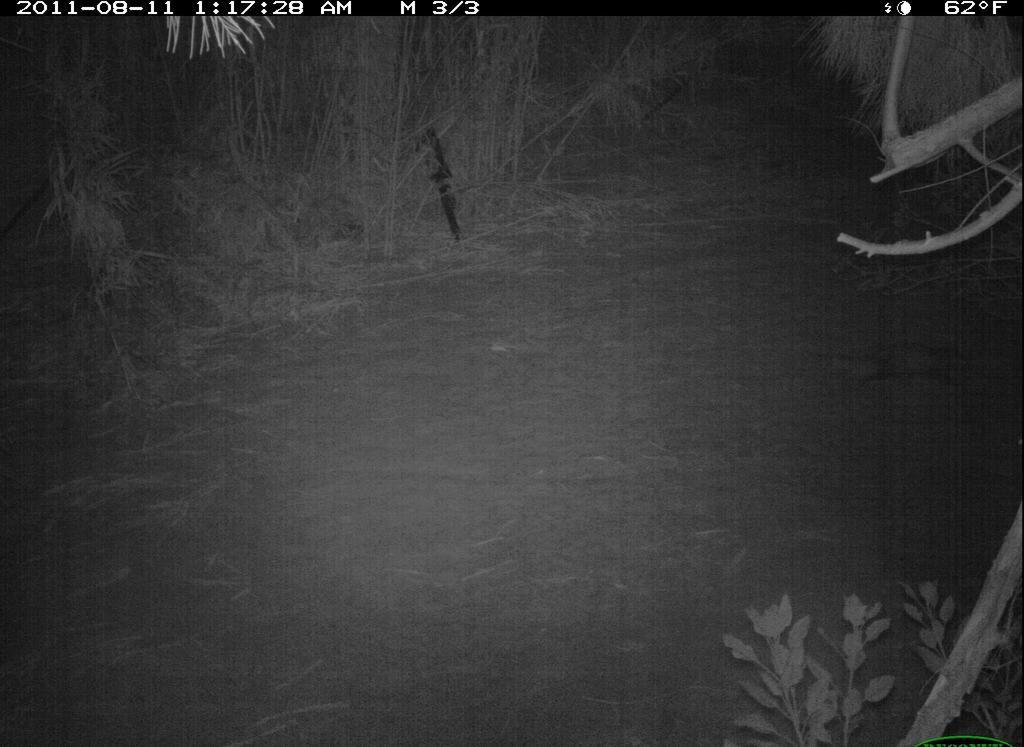opossum: (804, 335, 996, 400)
